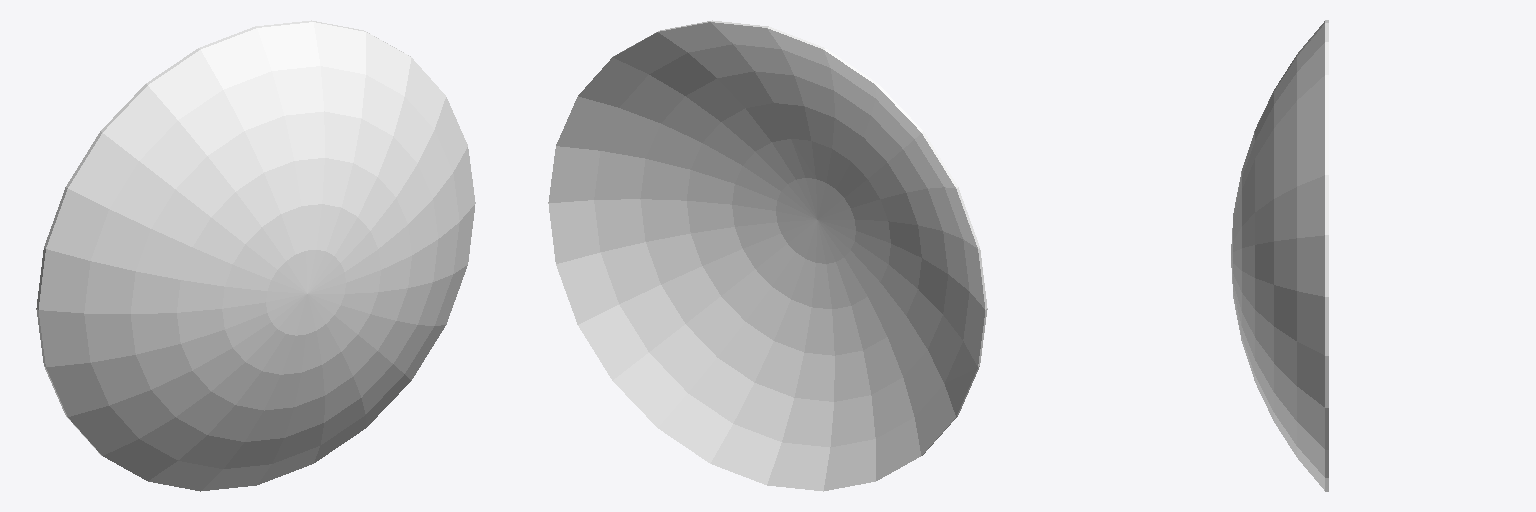
The robot description file, URDF, robot "model_normalized.obj":
<robot name="model_normalized.obj">
	<link name="_name">
		<visual>
			<origin xyz="0.0 0.0 0.0" rpy="0.0 0.0 0.0" />
			<geometry>
				<mesh filename="model_normalized.obj" scale="1 1 1" />
			</geometry>
			<material name="texture">
				<color rgba="1.0 1.0 1.0 1.0" />
			</material>
		</visual>
		<collision>
			<origin xyz="0.0 0.0 0.0" rpy="0.0 0.0 0.0" />
			<geometry>
				<mesh filename="model_normalized_vhacd.obj" scale="1 1 1" />
			</geometry>
		</collision>
		<inertial>
			<mass value="0.1" />
			<inertia ixx="1.0" ixy="0.0" ixz="0.0" iyy="1.0" iyz="0.0" izz="1.0" />
		</inertial>
	</link>
</robot>

--- What the picture shows (computed from the rendered views, not written in the file) ---
3 views of the same robot in one strip: view 1: azimuth 30°, elevation 25°; view 2: azimuth 150°, elevation 25°; view 3: azimuth 270°, elevation 25° (orthographic).
Robot: model_normalized.obj — 1 links, 0 joints (none); root link _name; default pose: all joints at 0.
Visible links, largest first — view 1: _name; view 2: _name; view 3: _name.
Boxes of the visible links, left/top/right/bottom form: _name: left=36, top=20, right=475, bottom=491; _name: left=548, top=20, right=987, bottom=491; _name: left=1231, top=20, right=1328, bottom=491.
Size in the robot's own frame: 0.6996 by 0.1457 by 0.6996 metres.
Meshes: 1 distinct files referenced, 1 mesh visuals loaded (1 OBJ).